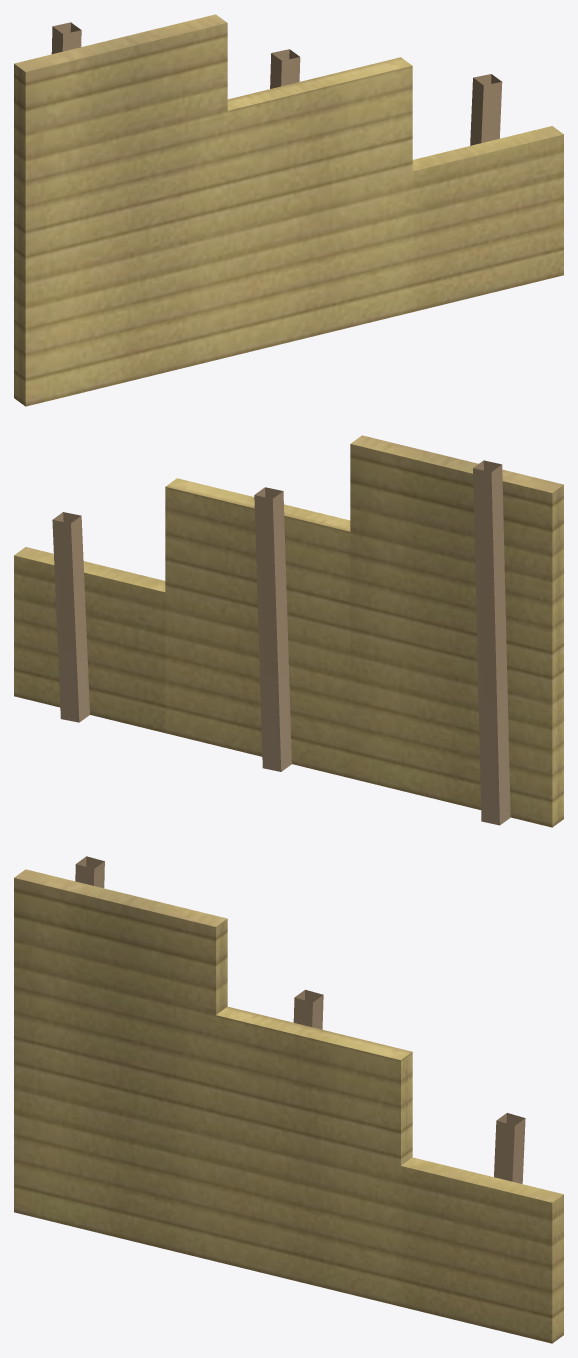
File: debris_sf_wood_siding.glb
3 views of the same model, one above another, from view 1: azimuth 30°, elevation 25°; view 2: azimuth 150°, elevation 25°; view 3: azimuth 330°, elevation 25° (orthographic).
Visible parts, largest first — view 1: debris_sf_wood_siding; view 2: debris_sf_wood_siding; view 3: debris_sf_wood_siding.
Boxes of the visible parts, box(x1,y1,x2,y2) form: debris_sf_wood_siding: box(14, 14, 563, 406); debris_sf_wood_siding: box(14, 435, 563, 827); debris_sf_wood_siding: box(14, 856, 563, 1343).
Bounding box in the file's own units: 3.2 × 2 × 0.2352.
Materials: 1 (1 with a texture image).
